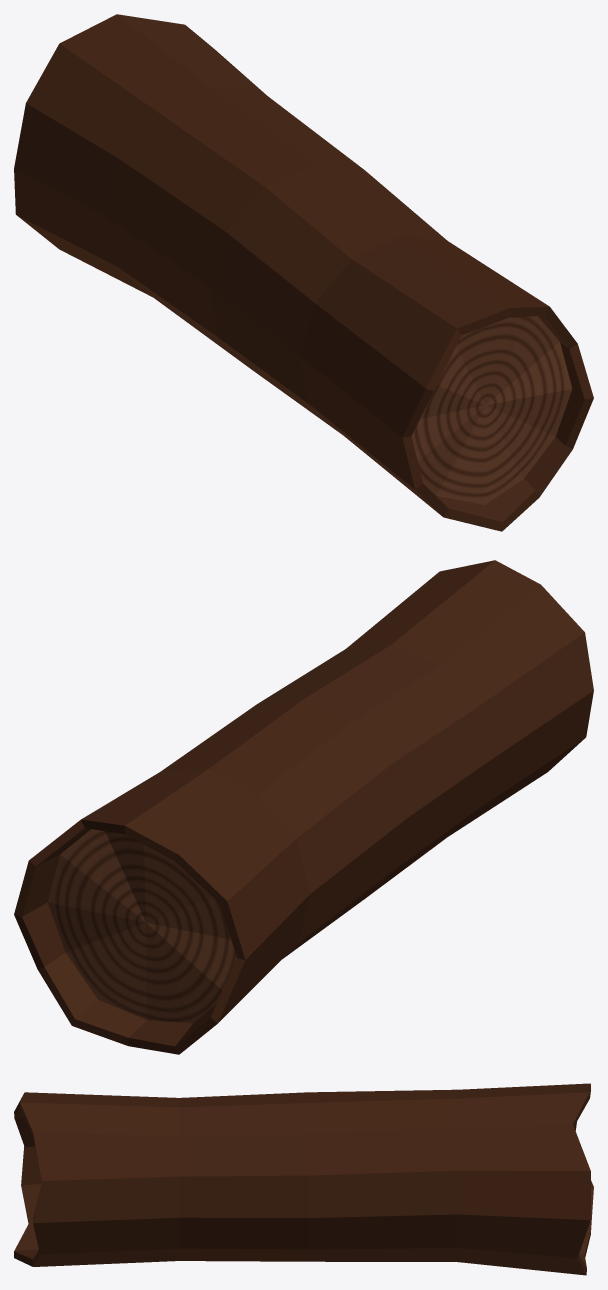
The model's file is Log_3.FBX.
The picture shows the model from 3 angles, top to bottom: view 1: azimuth 30°, elevation 25°; view 2: azimuth 150°, elevation 25°; view 3: azimuth 270°, elevation 25°; orthographic projection. The views are drawn at different scales.
Visible parts, largest first — view 1: log_3; view 2: log_3; view 3: log_3.
Part boxes in pixels (<box>): log_3: <box>14,14,593,531</box>; log_3: <box>14,560,593,1054</box>; log_3: <box>14,1083,593,1275</box>.
Bounding box in the file's own units: 26.36 × 25.5 × 79.3.
